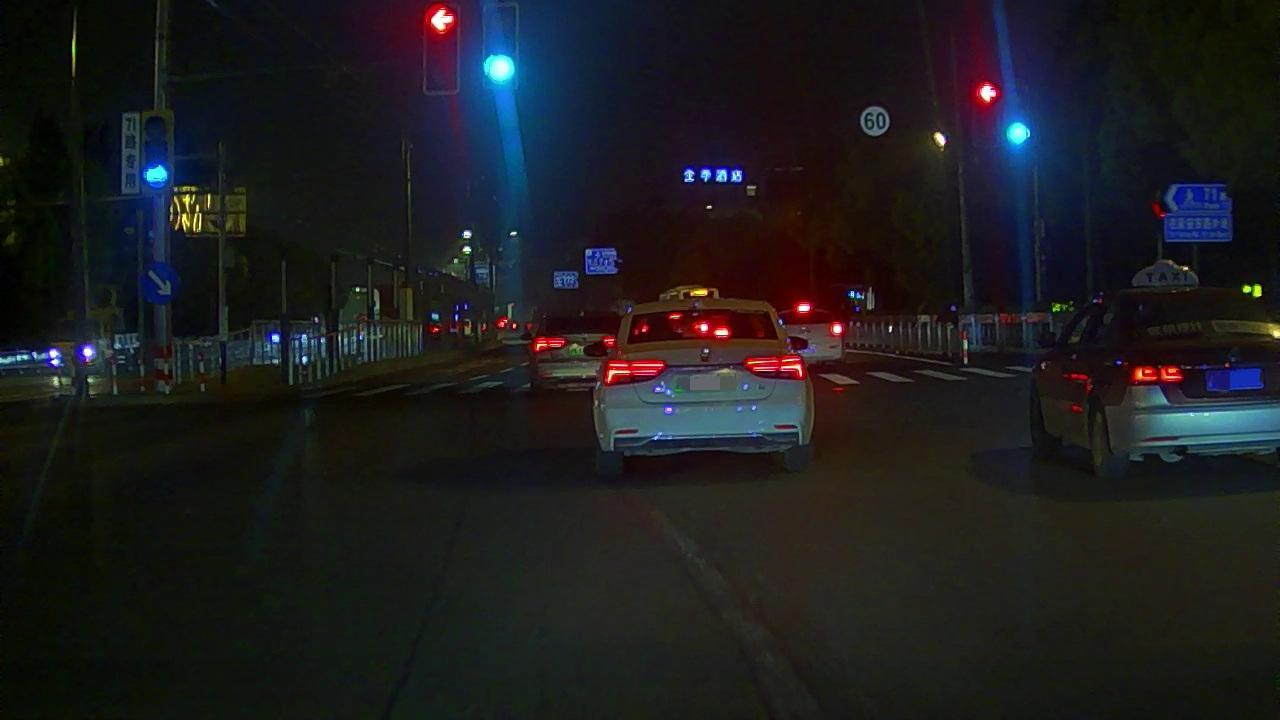traffic_light: (425, 6, 459, 92), (485, 6, 519, 88), (977, 83, 998, 146), (1008, 123, 1029, 145)
